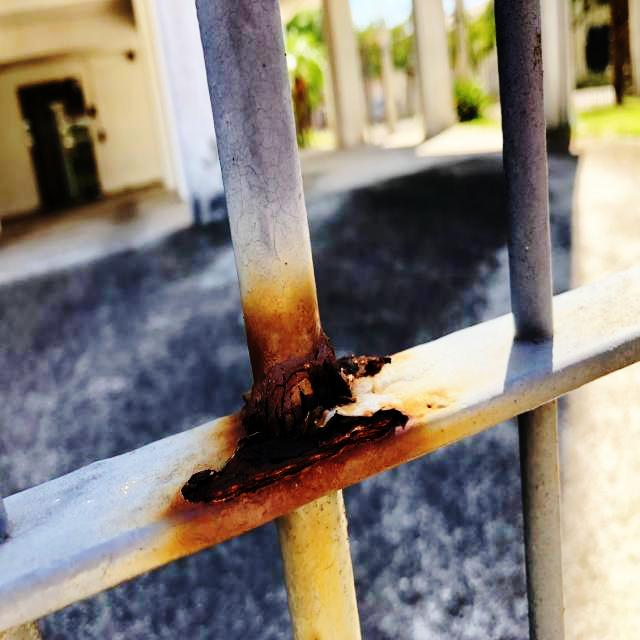Corrosion: (167, 295, 456, 557)
